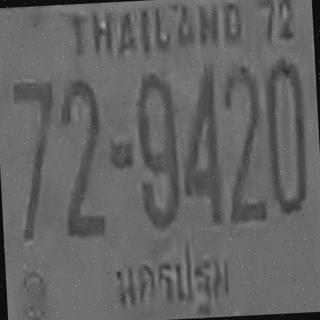N00: (134, 70, 181, 228), (263, 57, 310, 214)
N02: (221, 62, 270, 224), (59, 76, 107, 237)
N04: (177, 65, 223, 224)
N07: (11, 79, 60, 238)
N09: (134, 70, 181, 228)
P28: (107, 238, 235, 320)
